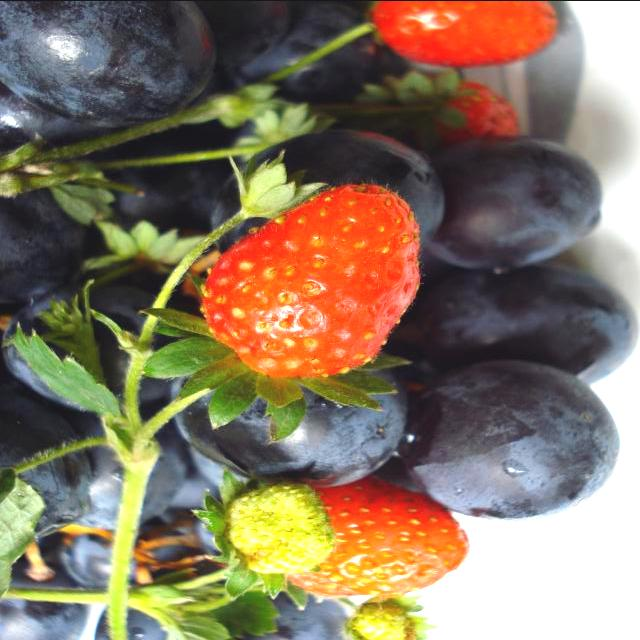ripe: (184, 176, 435, 387), (264, 476, 471, 600), (364, 0, 564, 70), (410, 77, 528, 152)
unripe: (199, 474, 338, 576), (339, 597, 429, 640)
